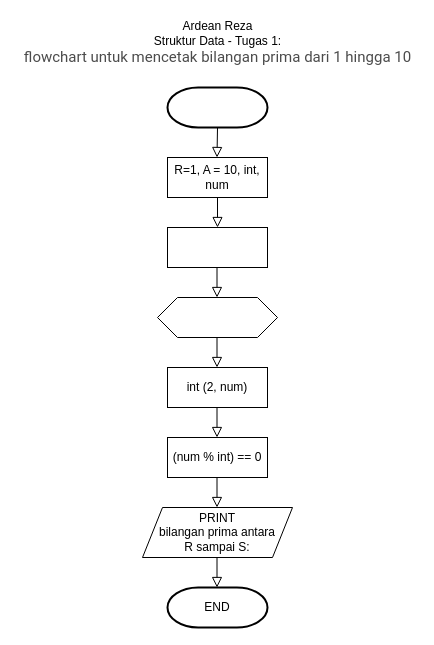
The diagram is 434 pixels wide and 645 high, and some of its shapes have lost their labels. The centre of each missing label's shape, as x and y in pixels:
"num (R, A)" belongs at (217,247).
"num > 1" belongs at (217,317).
"START" belongs at (217,107).
